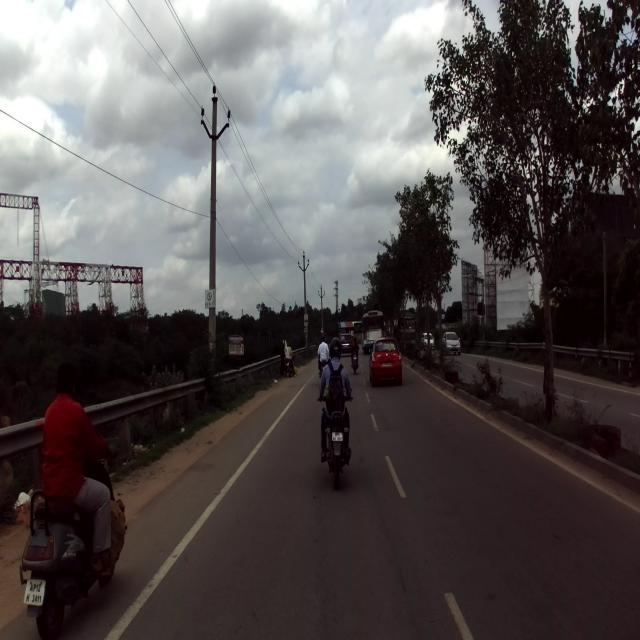car: (368, 334, 403, 387)
motorcycle: (316, 394, 354, 490)
scooter: (18, 439, 127, 638)
